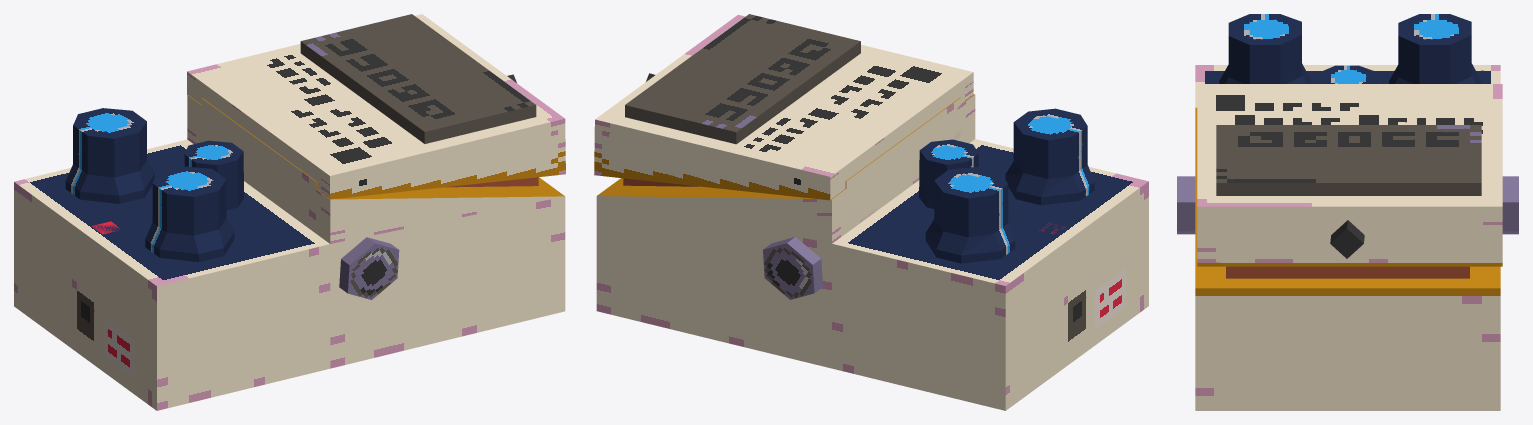
The model's file is Boss_DD8.gltf.
3 views of the same model, side by side, from view 1: azimuth 30°, elevation 25°; view 2: azimuth 150°, elevation 25°; view 3: azimuth 270°, elevation 25° (orthographic). The views are drawn at different scales.
Bounding box in the file's own units: 4.32 × 1.97 × 2.8.
1 material, 1 textured.
